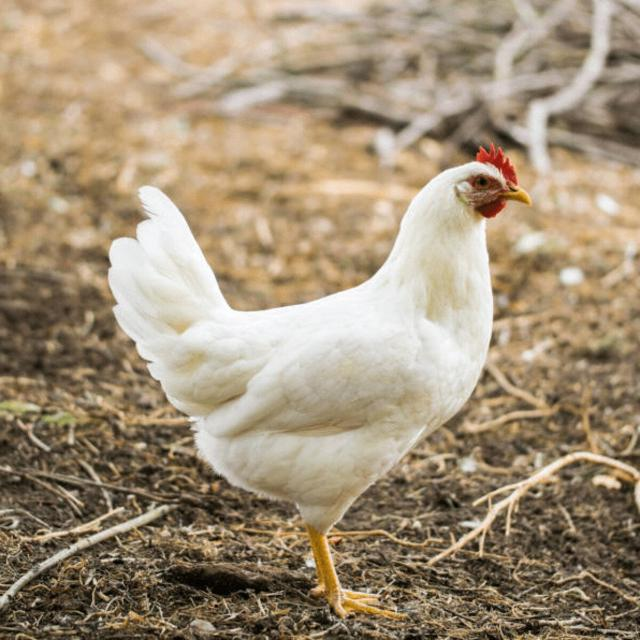Chicken: (107, 140, 533, 617)
